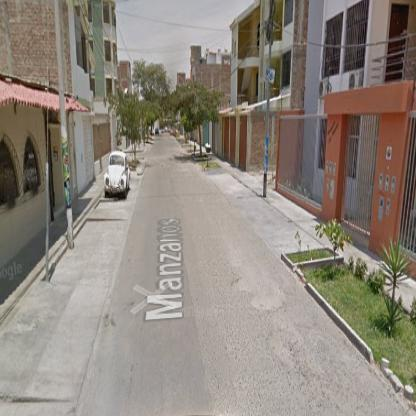Pista: (78, 128, 403, 411)
Vehiculo: (105, 152, 132, 198)
